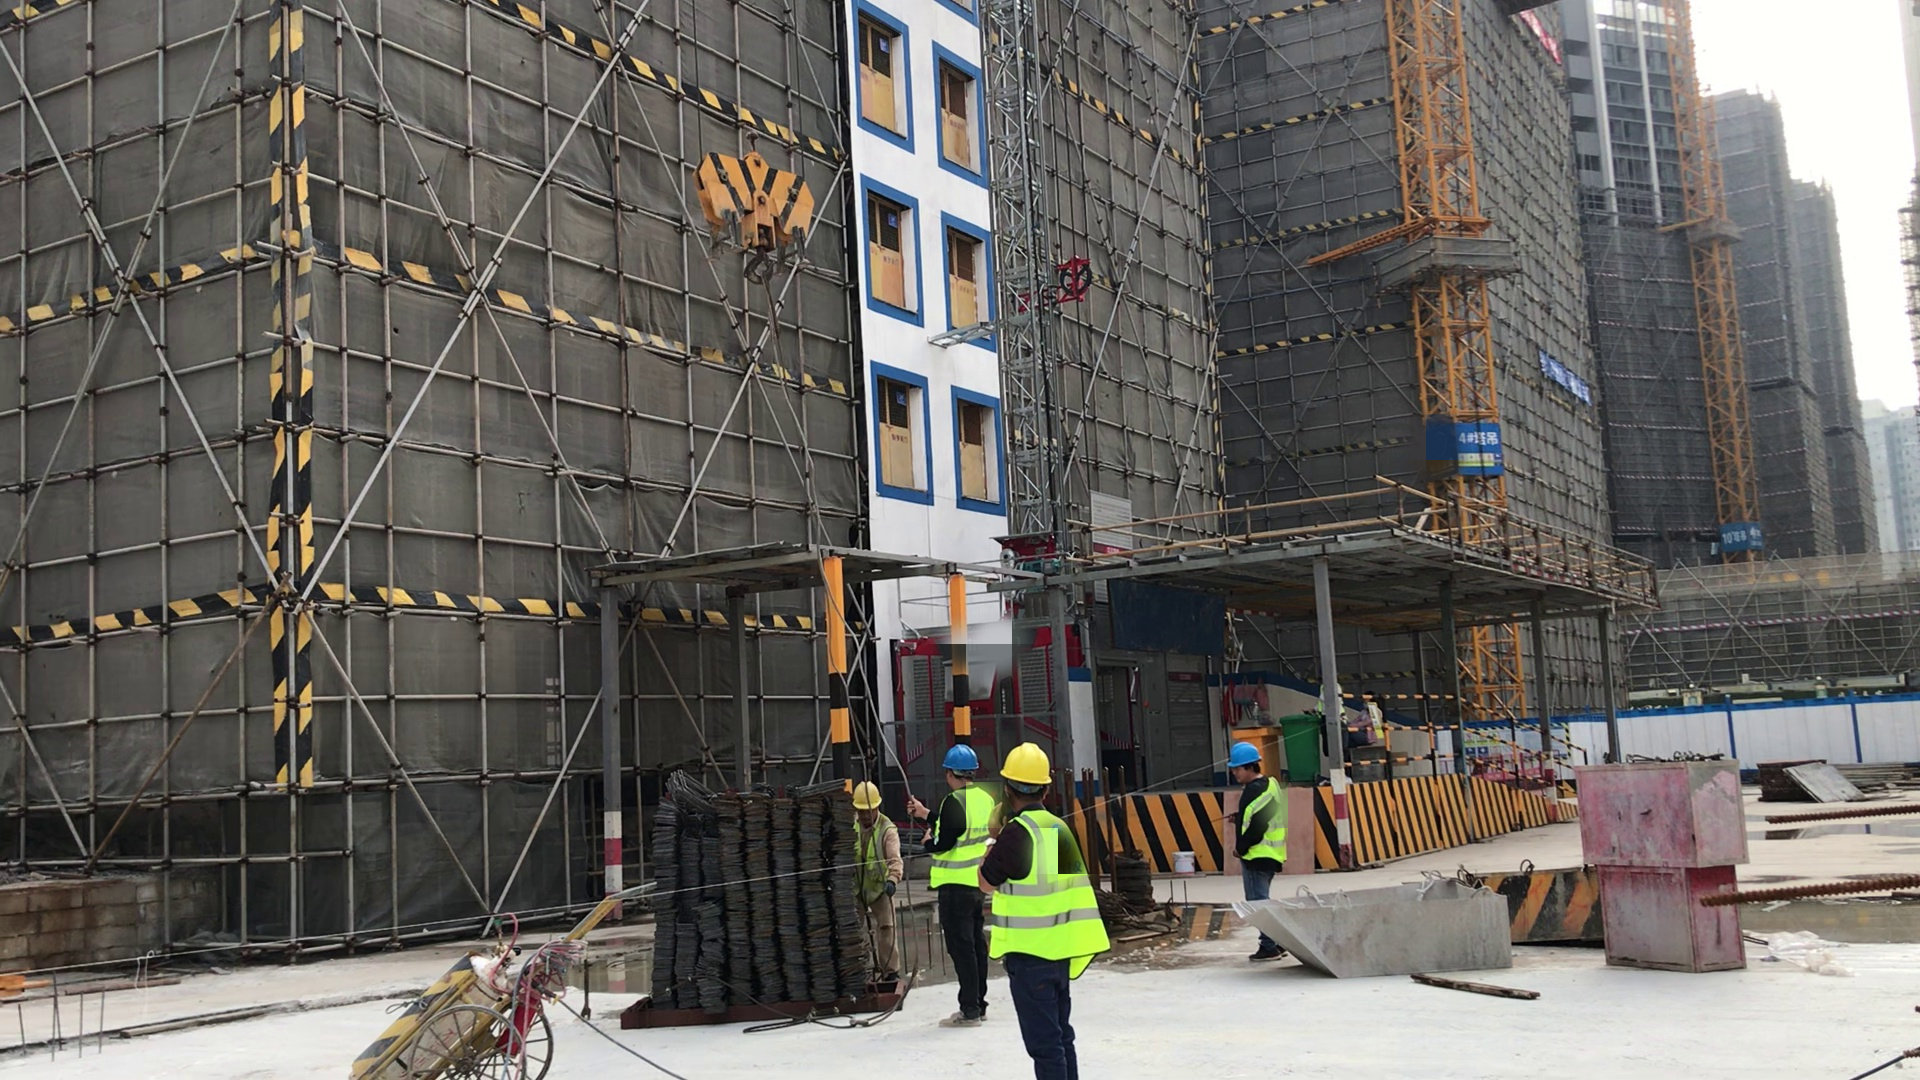fence: (1351, 679, 1681, 825)
handcart: (310, 878, 634, 1080)
helmet: (997, 738, 1061, 792), (1224, 739, 1266, 773), (940, 743, 982, 775), (849, 779, 883, 811)
hook: (682, 144, 829, 286)
hopper: (1224, 878, 1521, 993), (1458, 858, 1593, 958)
person: (987, 740, 1114, 1080), (929, 745, 1001, 1035), (1223, 740, 1290, 965), (851, 777, 907, 989), (1316, 674, 1348, 765), (1360, 689, 1388, 748)
slogan: (1475, 324, 1593, 408), (1498, 1, 1567, 64)
vest: (991, 804, 1116, 974), (930, 784, 989, 893), (1235, 778, 1289, 873), (854, 813, 894, 902)
